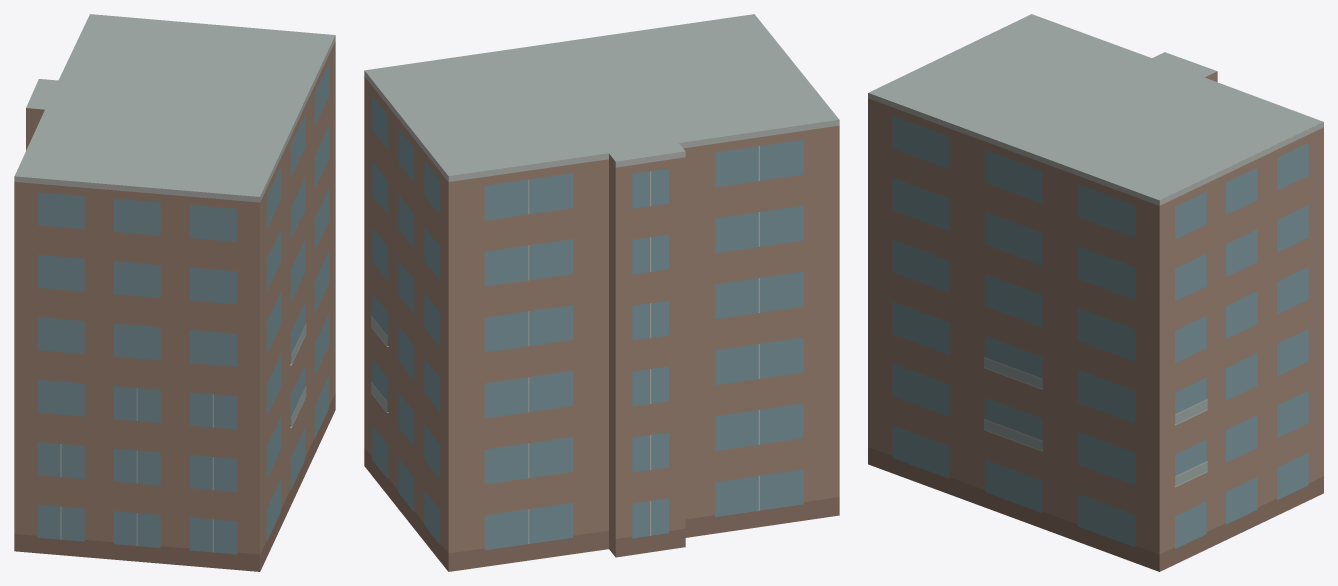
The model's file is survey-upis-32813502.glb.
3 renders of one model, left to right at view 1: azimuth 30°, elevation 25°; view 2: azimuth 150°, elevation 25°; view 3: azimuth 270°, elevation 25°, orthographic. The views are drawn at different scales.
Parts seen in each view (by area): view 1: survey-upis-32813502.tmp; view 2: survey-upis-32813502.tmp; view 3: survey-upis-32813502.tmp.
Boxes of the visible parts, left/top/right/bottom form: survey-upis-32813502.tmp: left=14, top=14, right=335, bottom=571; survey-upis-32813502.tmp: left=364, top=14, right=839, bottom=571; survey-upis-32813502.tmp: left=868, top=14, right=1323, bottom=571.
Size of the model in its own units: 17.79 by 16.52 by 18.38.
